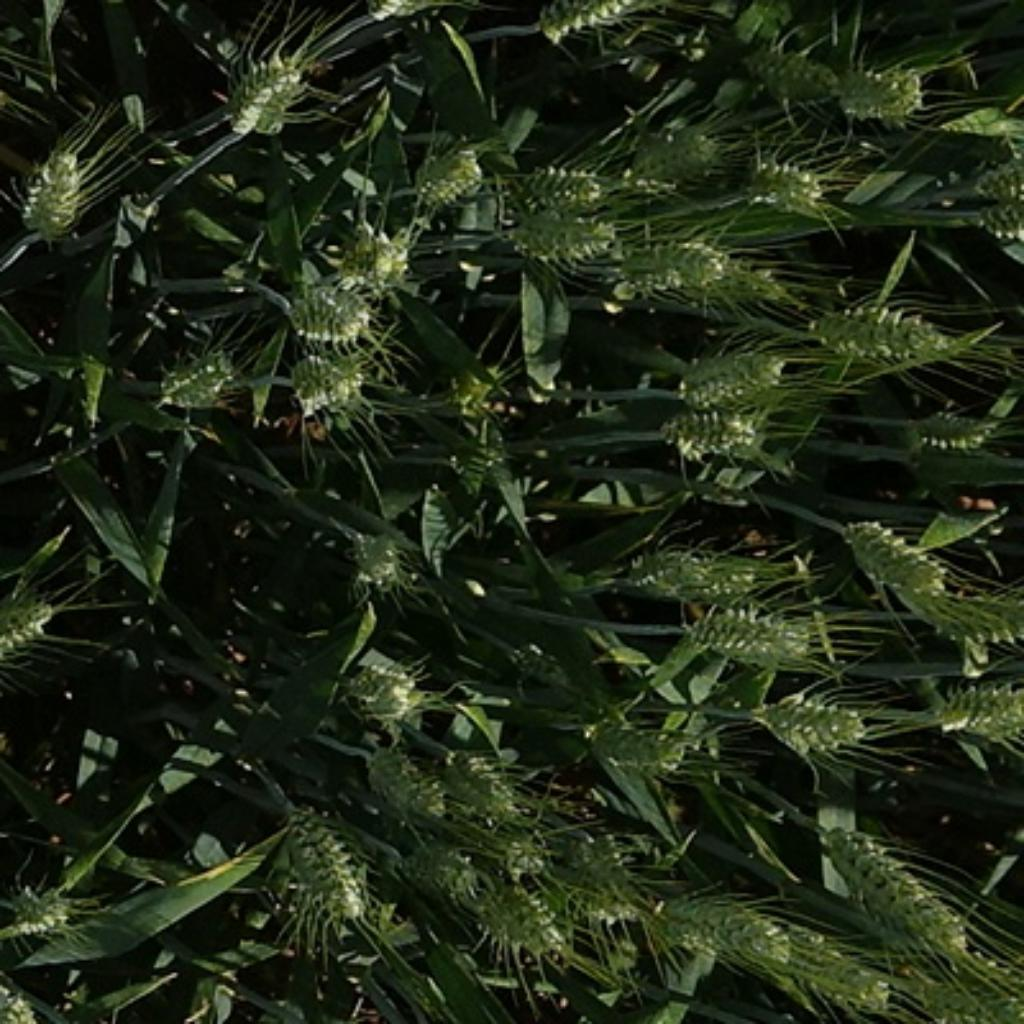0-0: (798, 808, 967, 960), (593, 220, 801, 307), (744, 929, 926, 1023), (271, 803, 386, 948), (652, 870, 796, 970), (801, 286, 965, 373), (832, 509, 954, 606), (747, 680, 880, 760), (678, 599, 824, 670), (213, 50, 318, 147), (573, 706, 704, 783), (624, 533, 773, 600), (665, 337, 796, 412), (5, 138, 94, 248), (564, 826, 656, 931), (491, 204, 614, 279), (652, 391, 780, 463), (819, 48, 934, 125), (915, 581, 1024, 660), (619, 112, 727, 189), (332, 647, 427, 732), (276, 268, 378, 345), (327, 223, 421, 304), (153, 335, 248, 414), (468, 875, 565, 952), (734, 38, 847, 104), (358, 742, 448, 824), (931, 670, 1024, 747), (281, 343, 376, 417), (447, 748, 537, 825), (909, 965, 1023, 1024), (0, 576, 64, 680), (407, 128, 486, 212), (0, 872, 89, 944), (737, 145, 832, 212), (901, 399, 1006, 455), (337, 517, 414, 593), (391, 837, 478, 901), (442, 360, 517, 432), (519, 155, 615, 211), (537, 0, 663, 35), (482, 833, 557, 889), (932, 100, 1021, 144), (951, 151, 1024, 200), (966, 200, 1024, 251)
